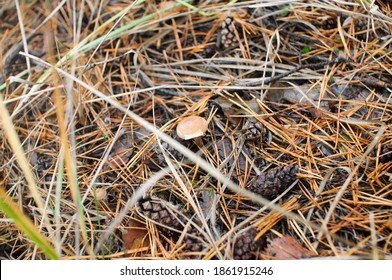Pc: (133, 198, 184, 236), (244, 165, 298, 199), (221, 15, 239, 49)
